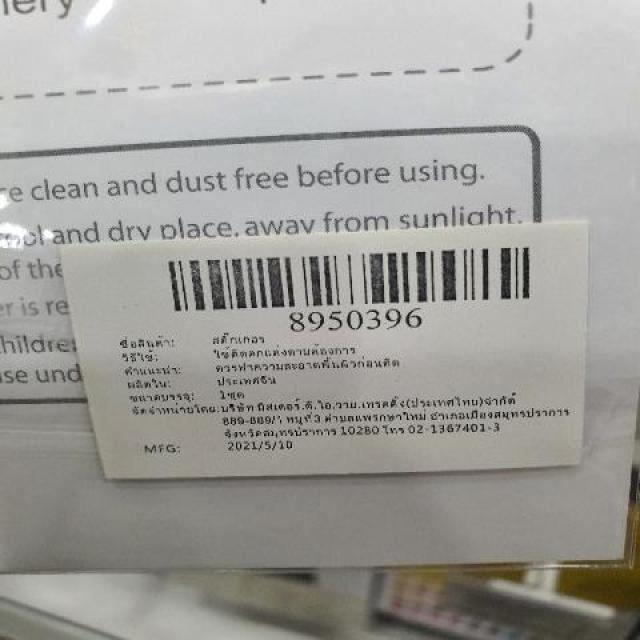Barcode: (154, 239, 558, 334)
